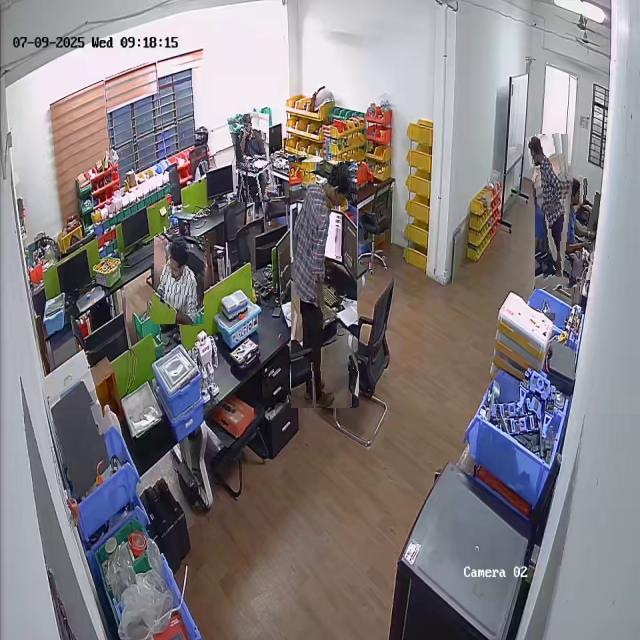person: (290, 162, 358, 408), (530, 133, 572, 290), (152, 235, 206, 325), (558, 176, 598, 279), (232, 113, 273, 203)
